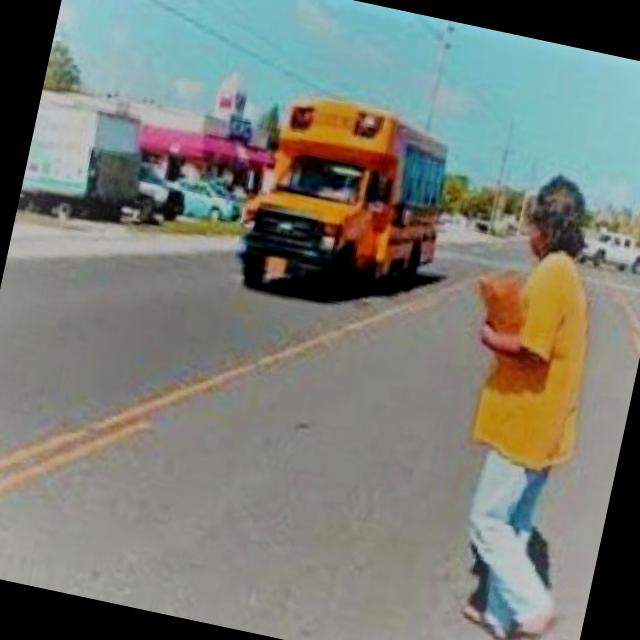Person: (403, 161, 640, 640)
